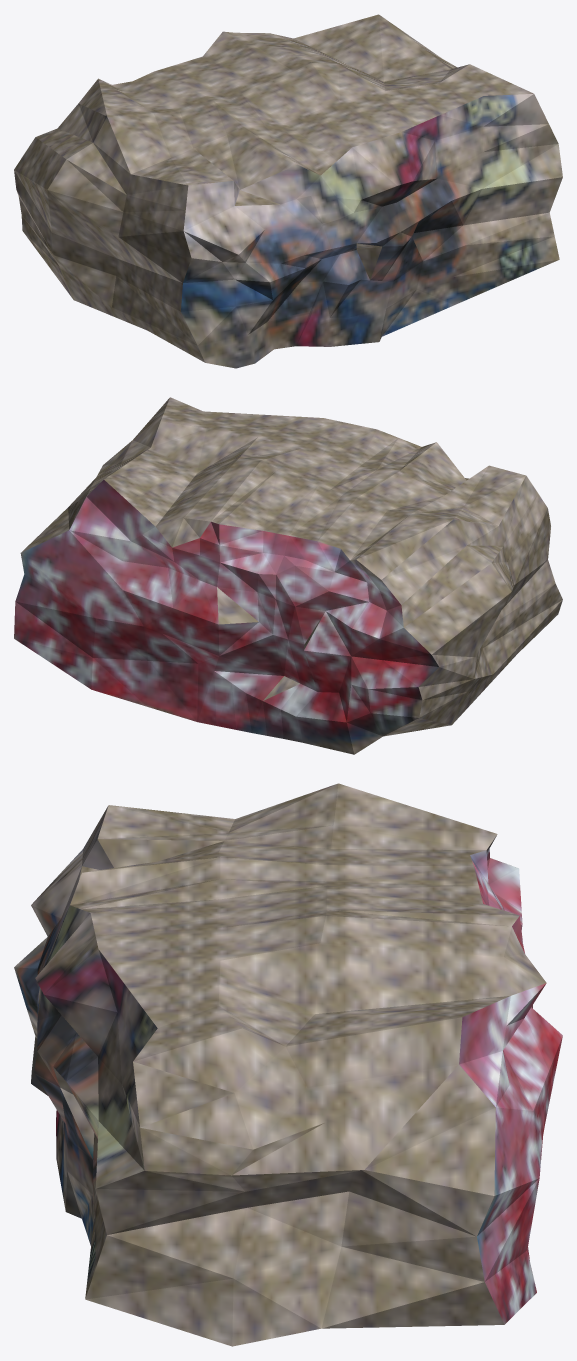
The model's file is rock.obj.
The picture shows the model from 3 angles, top to bottom: view 1: azimuth 30°, elevation 25°; view 2: azimuth 150°, elevation 25°; view 3: azimuth 270°, elevation 25°; orthographic projection. The views are drawn at different scales.
Parts seen in each view (by area): view 1: Rock128_lambert9SG; view 2: Rock128_lambert9SG; view 3: Rock128_lambert9SG.
Boxes of the visible parts, x1,y1,x2,y2 form: Rock128_lambert9SG: [14, 14, 562, 368]; Rock128_lambert9SG: [14, 397, 562, 754]; Rock128_lambert9SG: [14, 783, 562, 1346].
Size of the model in its own units: 1.11 by 0.5117 by 0.7799.
